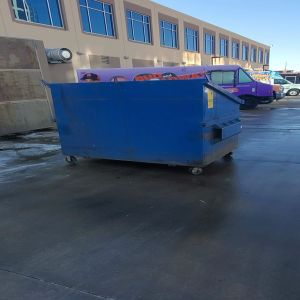Dumpster: (51, 82, 244, 177)
